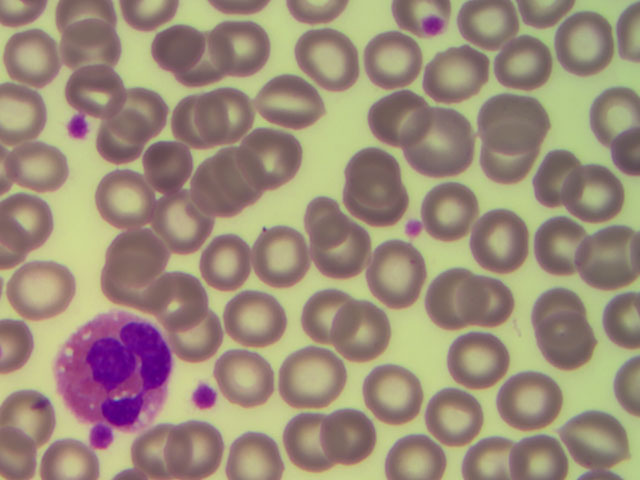Platelets: (188, 384, 223, 413), (88, 424, 118, 447), (66, 113, 88, 138), (403, 218, 423, 237)
RBC: (362, 352, 422, 421), (279, 409, 341, 471), (132, 420, 193, 480), (382, 420, 443, 480), (503, 420, 564, 480), (453, 420, 514, 480), (1, 28, 62, 87), (54, 15, 115, 74), (68, 58, 129, 117), (108, 74, 169, 133), (88, 112, 149, 171), (10, 140, 71, 199), (2, 83, 63, 142), (91, 171, 152, 230), (14, 263, 75, 322), (5, 194, 66, 253), (3, 389, 64, 448), (168, 418, 229, 477), (214, 350, 275, 409), (171, 306, 232, 365), (151, 268, 212, 327), (111, 264, 172, 323), (107, 236, 168, 295), (143, 198, 204, 257), (138, 142, 199, 201), (155, 92, 216, 151), (186, 82, 247, 141), (176, 42, 237, 101), (147, 13, 208, 72), (206, 15, 267, 74), (255, 66, 316, 125), (245, 128, 306, 187), (215, 147, 276, 206), (186, 162, 247, 221), (190, 235, 251, 294), (229, 288, 290, 347), (295, 287, 356, 346), (334, 305, 395, 364), (255, 224, 316, 283), (300, 180, 361, 239), (308, 219, 369, 278), (341, 167, 402, 226), (347, 134, 408, 193), (365, 88, 426, 147), (397, 107, 458, 166), (432, 43, 493, 102), (368, 32, 429, 91), (301, 28, 362, 87), (486, 36, 547, 95), (478, 87, 539, 146), (478, 125, 539, 184), (531, 148, 592, 207), (569, 153, 630, 212), (534, 217, 595, 276), (575, 225, 636, 284), (469, 216, 530, 275), (420, 181, 481, 240), (419, 266, 480, 325), (456, 266, 517, 325), (377, 245, 438, 304), (441, 325, 502, 384), (319, 407, 380, 466), (413, 390, 474, 449), (502, 369, 563, 428), (535, 320, 596, 379), (530, 277, 591, 336), (561, 406, 622, 465)
WBC: (59, 317, 174, 429)
